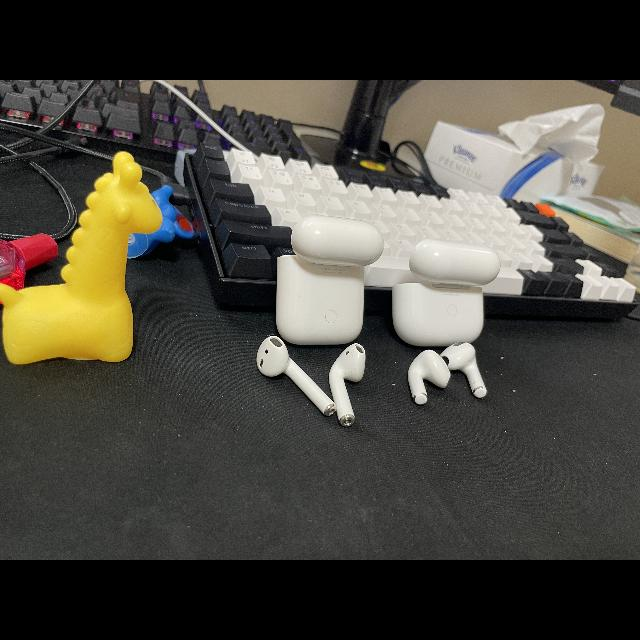airpod2: (250, 204, 386, 428)
airpod3: (390, 234, 508, 406)
